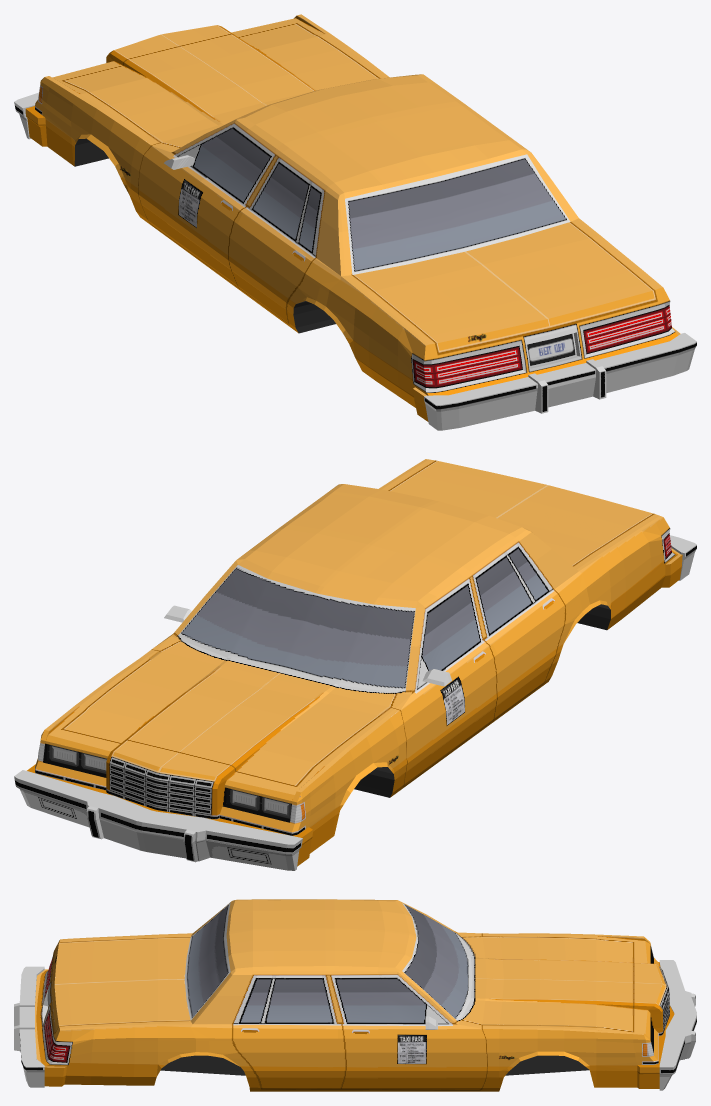
Rendered from 81stregis.fbx.
The picture shows the model from 3 angles, top to bottom: view 1: azimuth 30°, elevation 25°; view 2: azimuth 150°, elevation 25°; view 3: azimuth 270°, elevation 25°; orthographic projection. The views are drawn at different scales.
Parts seen in each view (by area): view 1: 81stregis; view 2: 81stregis; view 3: 81stregis.
Part boxes in pixels (box(x1,y1,x2,y2)): 81stregis: box(14, 14, 696, 430); 81stregis: box(14, 459, 696, 870); 81stregis: box(14, 899, 696, 1091).
Size of the model in its own units: 2.35 by 1.17 by 6.31.
